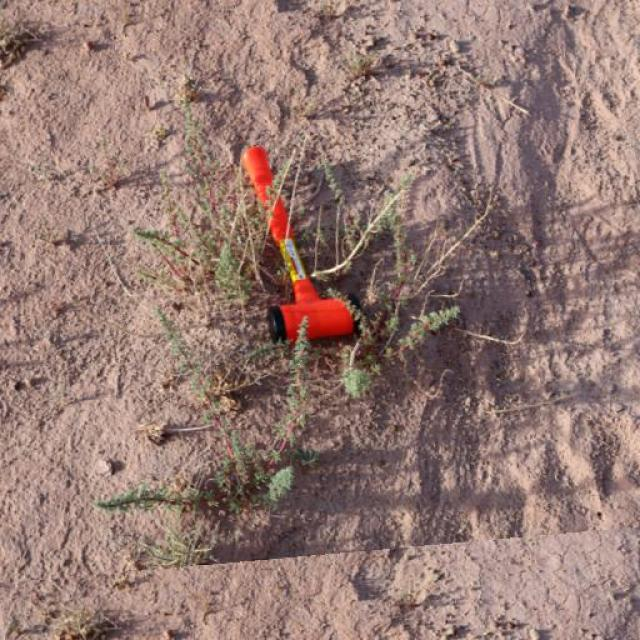mallet: (237, 142, 355, 344)
